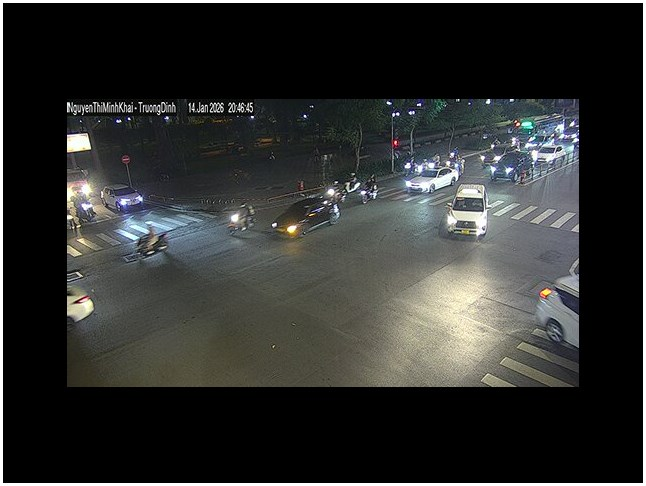car: (533, 269, 579, 347), (269, 197, 341, 239), (443, 183, 489, 241), (67, 269, 97, 323), (405, 167, 459, 194), (490, 151, 531, 184), (102, 186, 144, 213)
